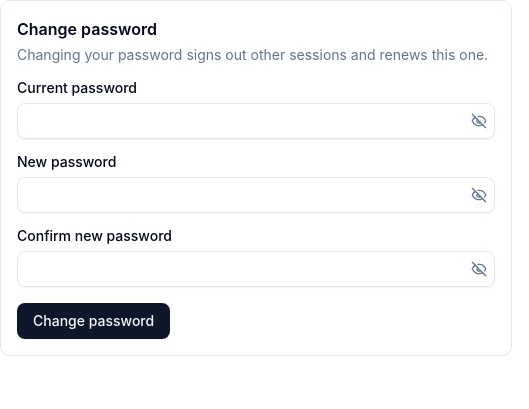
Test: Password form › validates short without sending a request
Type "Current-test-password" into the password field labelled "Current password".
click(256, 121); type("Current-test-password")  # box [17,103,495,139]
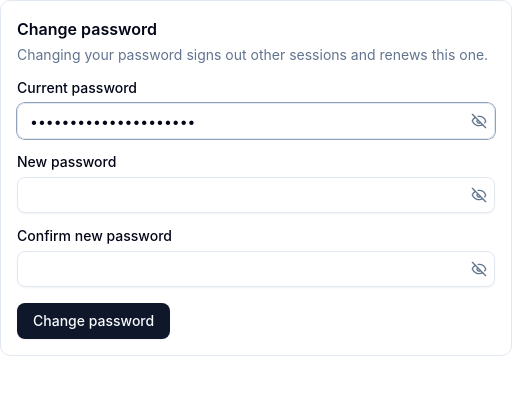
Type "short" into the password field labelled "New password".
click(256, 195); type("short")  # box [17,177,495,213]
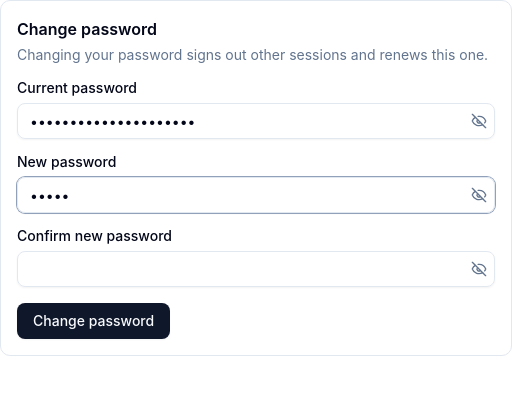
Type "short" into the password field labelled "Confirm new password".
click(256, 269); type("short")  # box [17,251,495,287]
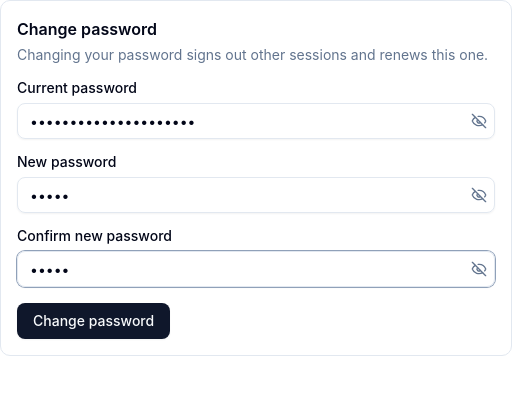
Click the button "Change password".
click(94, 321)  # box [17,303,170,339]
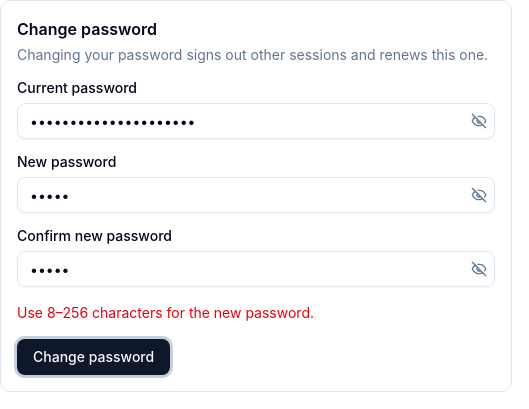
Check: the message shows "Use 8–256", box [17,304,314,321]
